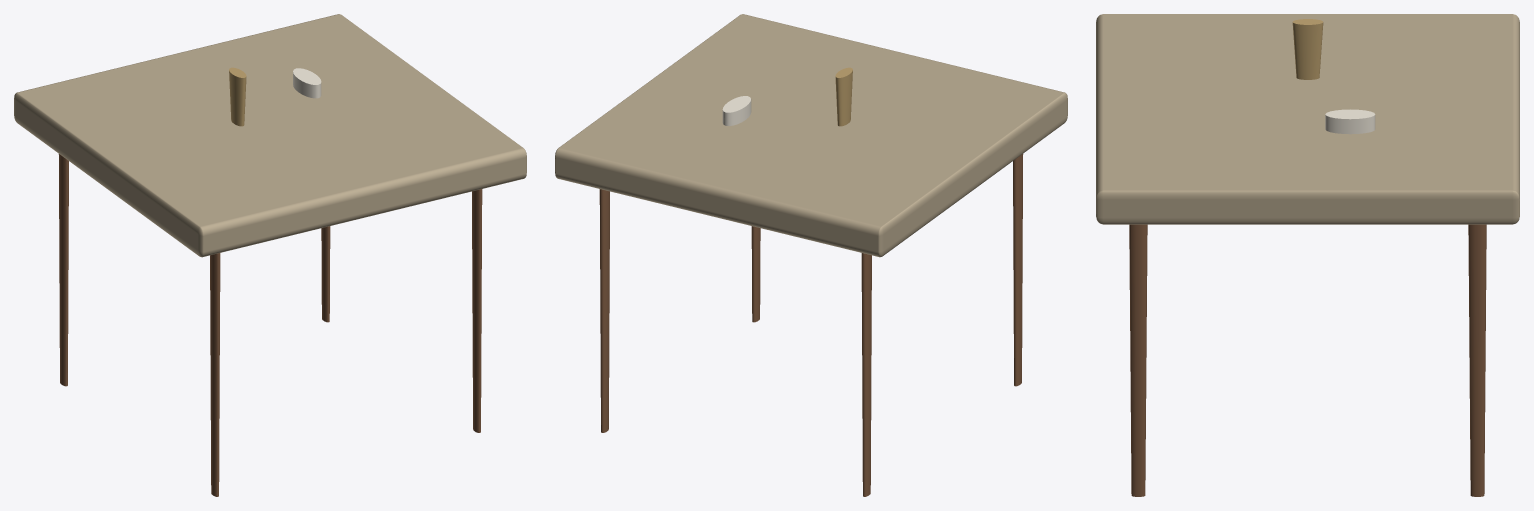
The model's file is meeting-table.glb.
3 views of the same model, side by side, from view 1: azimuth 30°, elevation 25°; view 2: azimuth 150°, elevation 25°; view 3: azimuth 270°, elevation 25° (orthographic). The views are drawn at different scales.
Parts seen in each view (by area): view 1: upholstery, part (×3); view 2: upholstery, part (×3); view 3: upholstery, part (×3).
Part boxes in pixels (box(x1,y1,x2,y2)): upholstery: box(14, 14, 526, 257); part (×3): box(58, 67, 482, 496); upholstery: box(555, 14, 1067, 257); part (×3): box(599, 67, 1023, 496); upholstery: box(1096, 14, 1519, 224); part (×3): box(1129, 19, 1486, 496).
Bounding box in the file's own units: 1 × 1 × 1.
